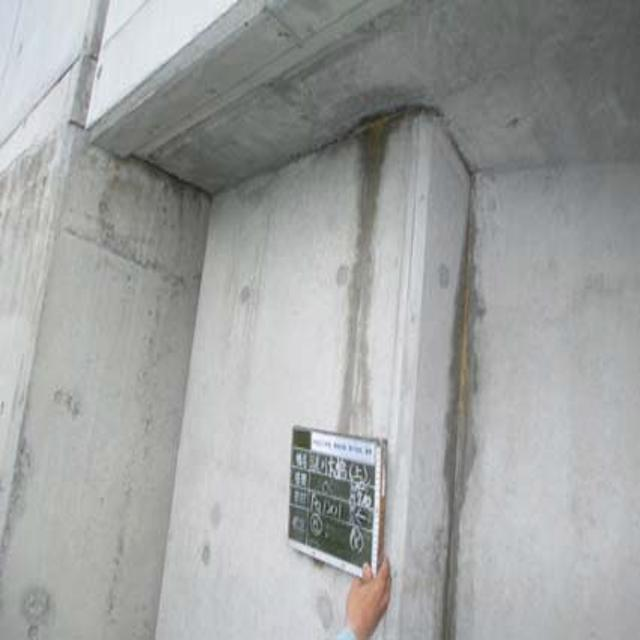leakage: (327, 90, 392, 451), (437, 147, 483, 640)
